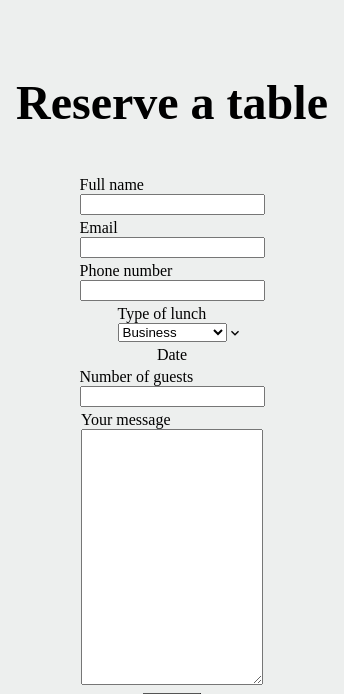
Test: short comment
Note: enter comment input
Type "value" into the text box with id "comment" at (172, 557), box [81,429,263,685]
(page scrolled)
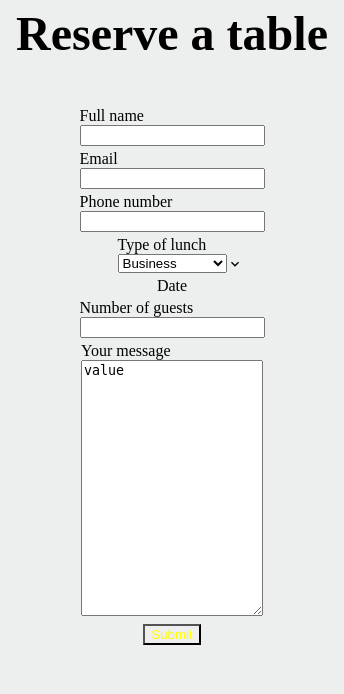
Note: click submit
Click the button with id "booking-submit" at (172, 635), box [143,624,201,645]
(page scrolled)
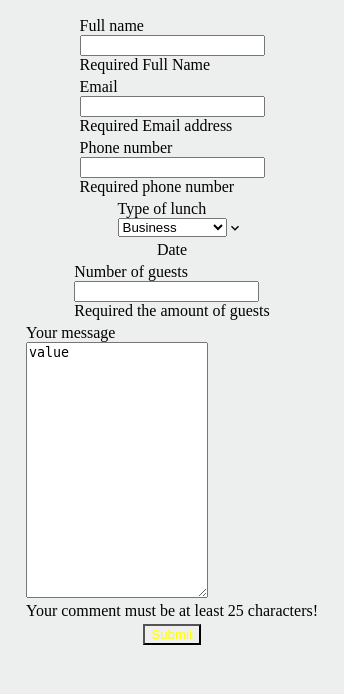
Result: the text "Your comment must be at least 25 characters!" is shown at [26,602,318,620]
